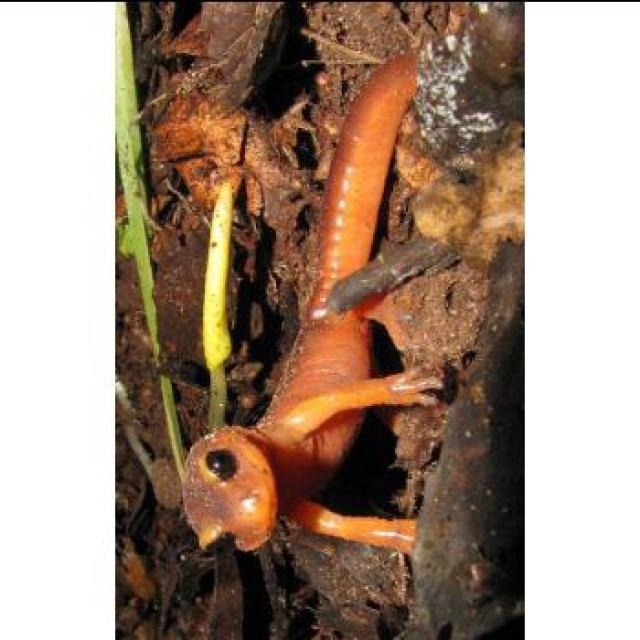Lizard: (181, 47, 422, 562)
